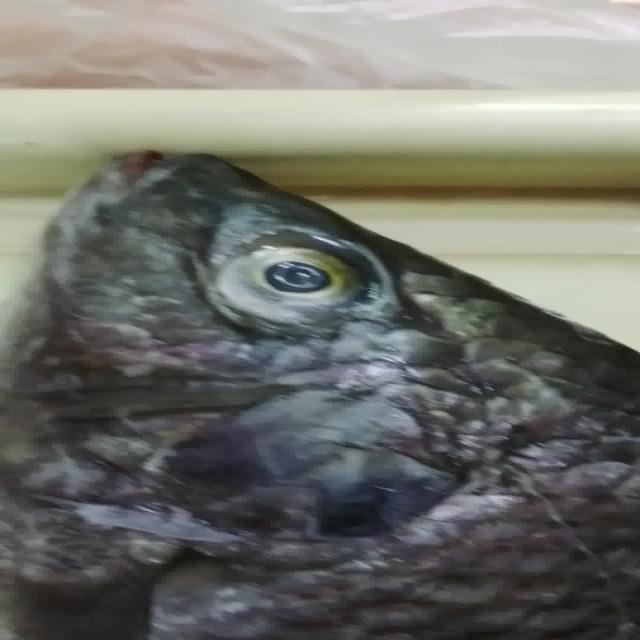Non-Fresh: (182, 201, 401, 342)
